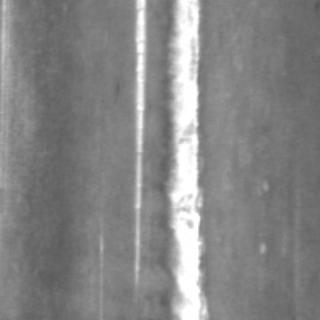scratches: (157, 0, 209, 318), (130, 1, 146, 300)
